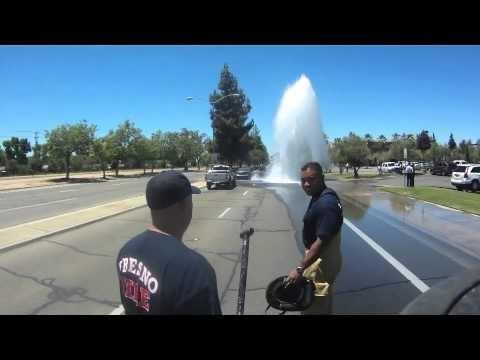pipe burst: (259, 72, 330, 182)
water accumulation: (244, 180, 480, 316)
